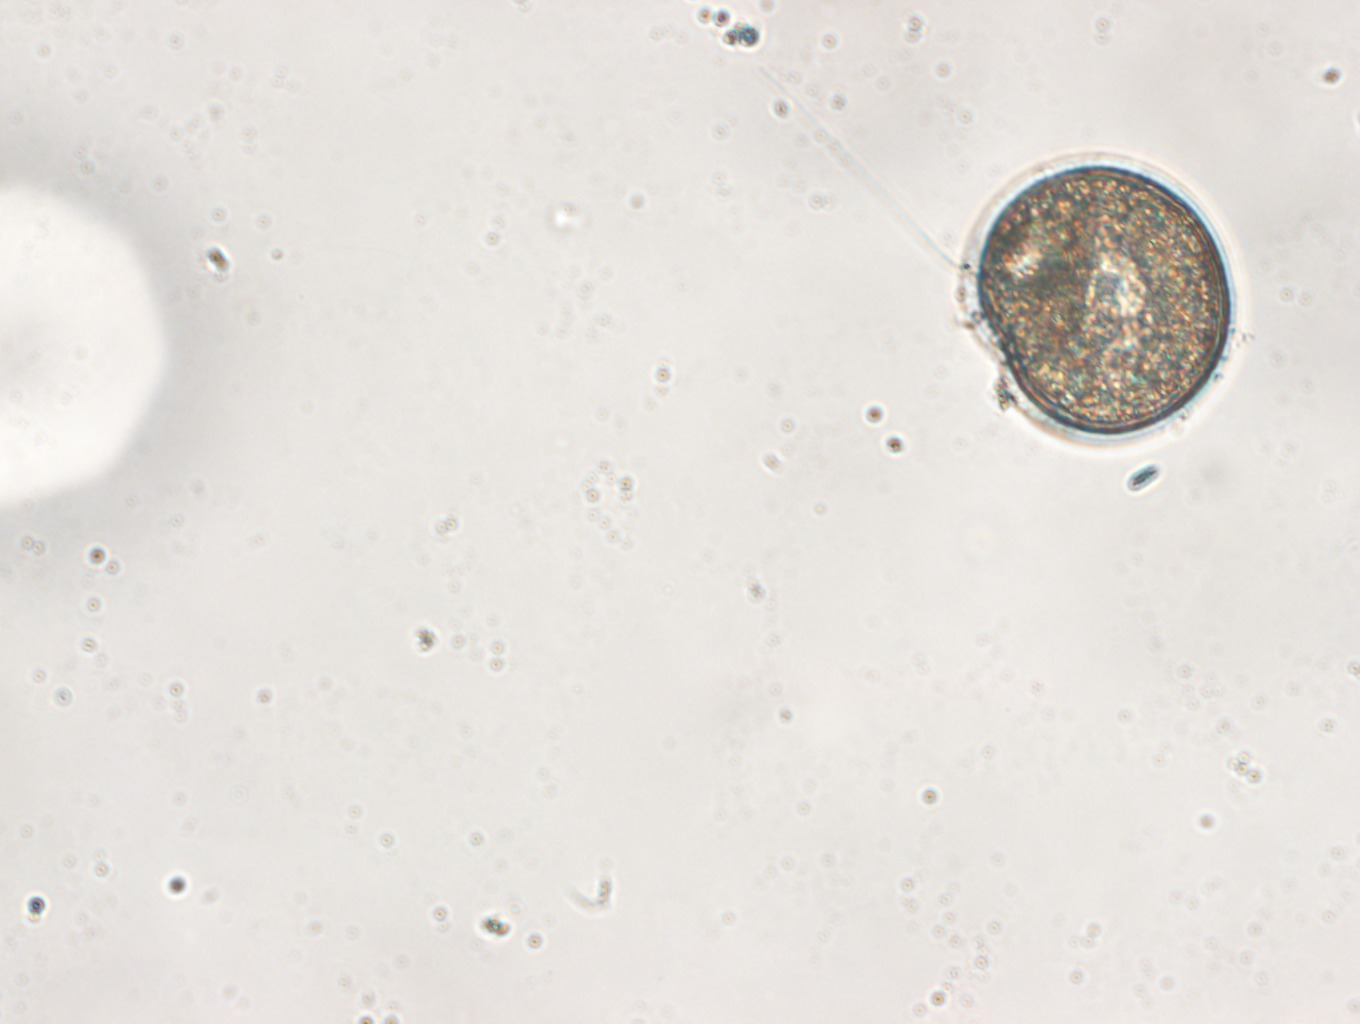coscinodiscus: (953, 150, 1235, 447)
